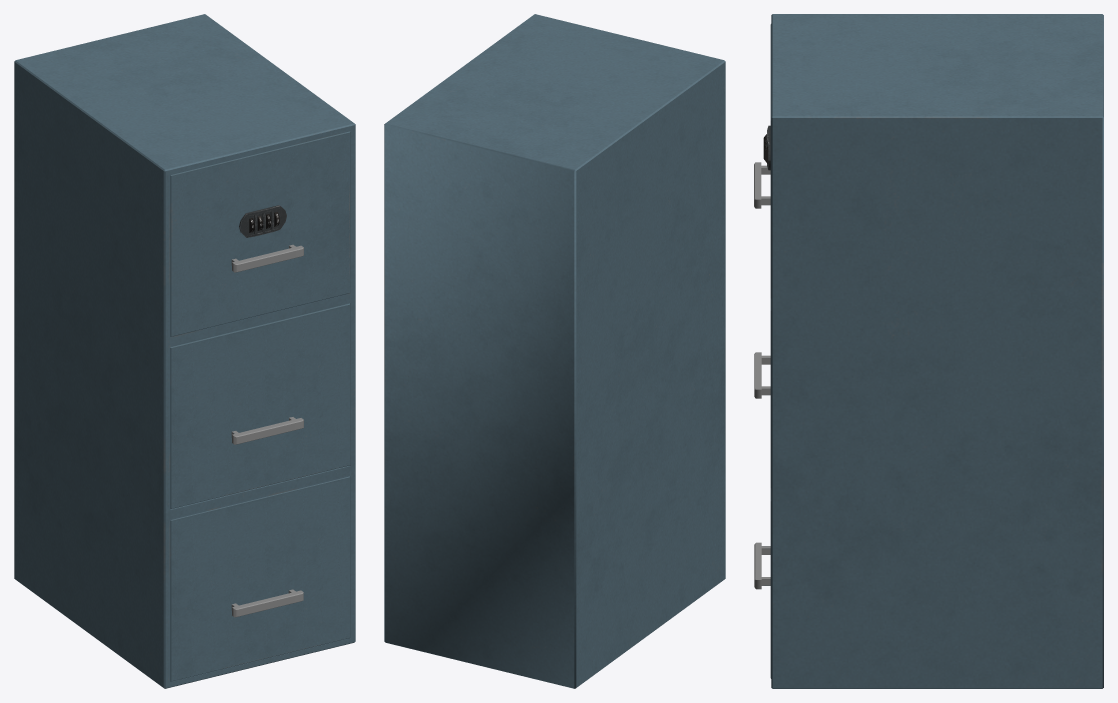
The model's file is Locker01.fbx.
The picture shows the model from 3 angles, left to right: view 1: azimuth 30°, elevation 25°; view 2: azimuth 150°, elevation 25°; view 3: azimuth 270°, elevation 25°; orthographic projection. The views are drawn at different scales.
Parts seen in each view (by area): view 1: Locker1, Drawer_Middle_Locker1, Drawer_Top_Locker1, Drawer_Bottom_Locker1; view 2: Locker1; view 3: Locker1, Drawer_Top_Locker1, Drawer_Middle_Locker1, Drawer_Bottom_Locker1.
Part boxes in pixels (left/top/right/bottom): Locker1: left=14, top=14, right=355, bottom=688; Drawer_Middle_Locker1: left=170, top=303, right=350, bottom=508; Drawer_Top_Locker1: left=170, top=131, right=350, bottom=336; Drawer_Bottom_Locker1: left=170, top=476, right=350, bottom=681; Locker1: left=384, top=14, right=725, bottom=688; Locker1: left=771, top=14, right=1103, bottom=688; Drawer_Top_Locker1: left=754, top=24, right=771, bottom=298; Drawer_Middle_Locker1: left=754, top=298, right=771, bottom=487; Drawer_Bottom_Locker1: left=754, top=488, right=771, bottom=678.
Size of the model in its own units: 51.93 by 134 by 74.34.
